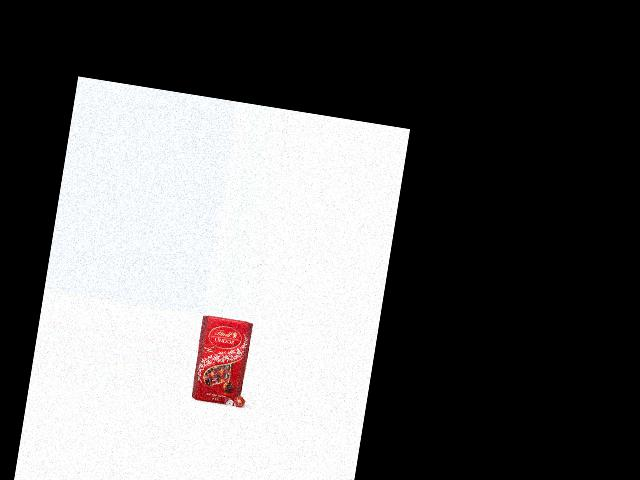chocolate: (191, 315, 258, 407)
